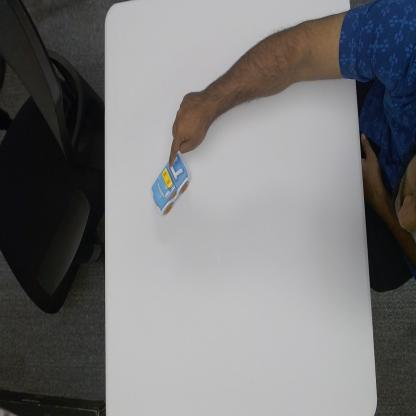Arm: (207, 12, 354, 123)
Car: (150, 152, 190, 217)
Hand: (168, 89, 210, 169)
